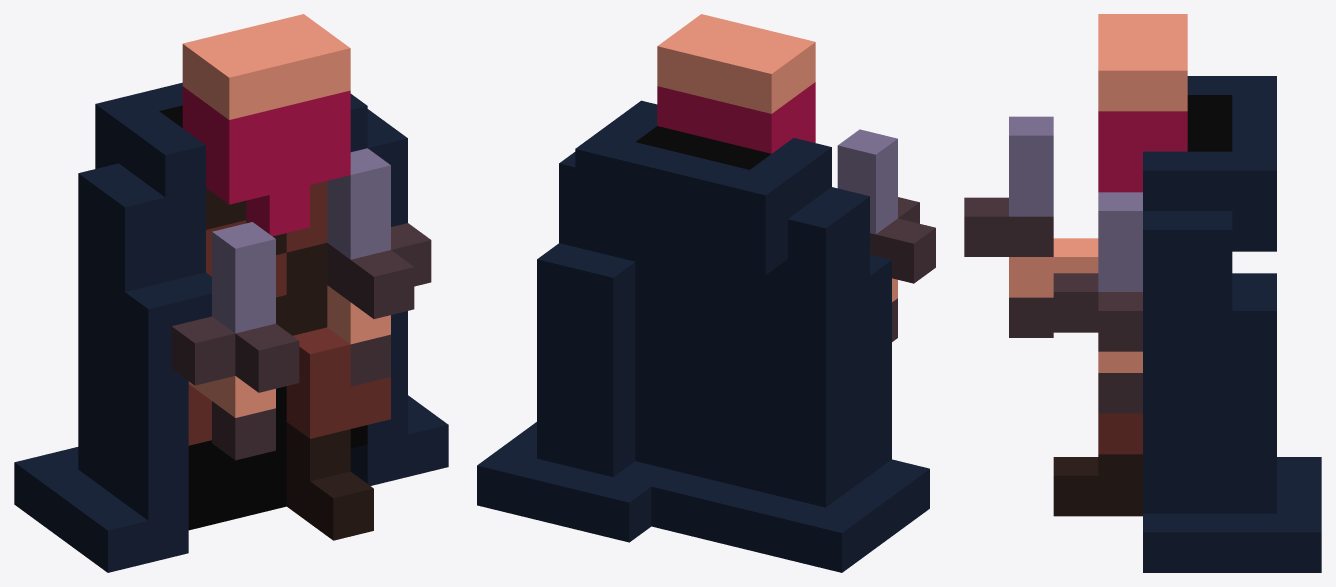
Rendered from rogue_walk_2.obj.
3 renders of one model, left to right at view 1: azimuth 30°, elevation 25°; view 2: azimuth 150°, elevation 25°; view 3: azimuth 270°, elevation 25°, orthographic. The views are drawn at different scales.
Bounding box in the file's own units: 0.9 × 1.1 × 0.8.
Materials: 1 (1 with a texture image).
